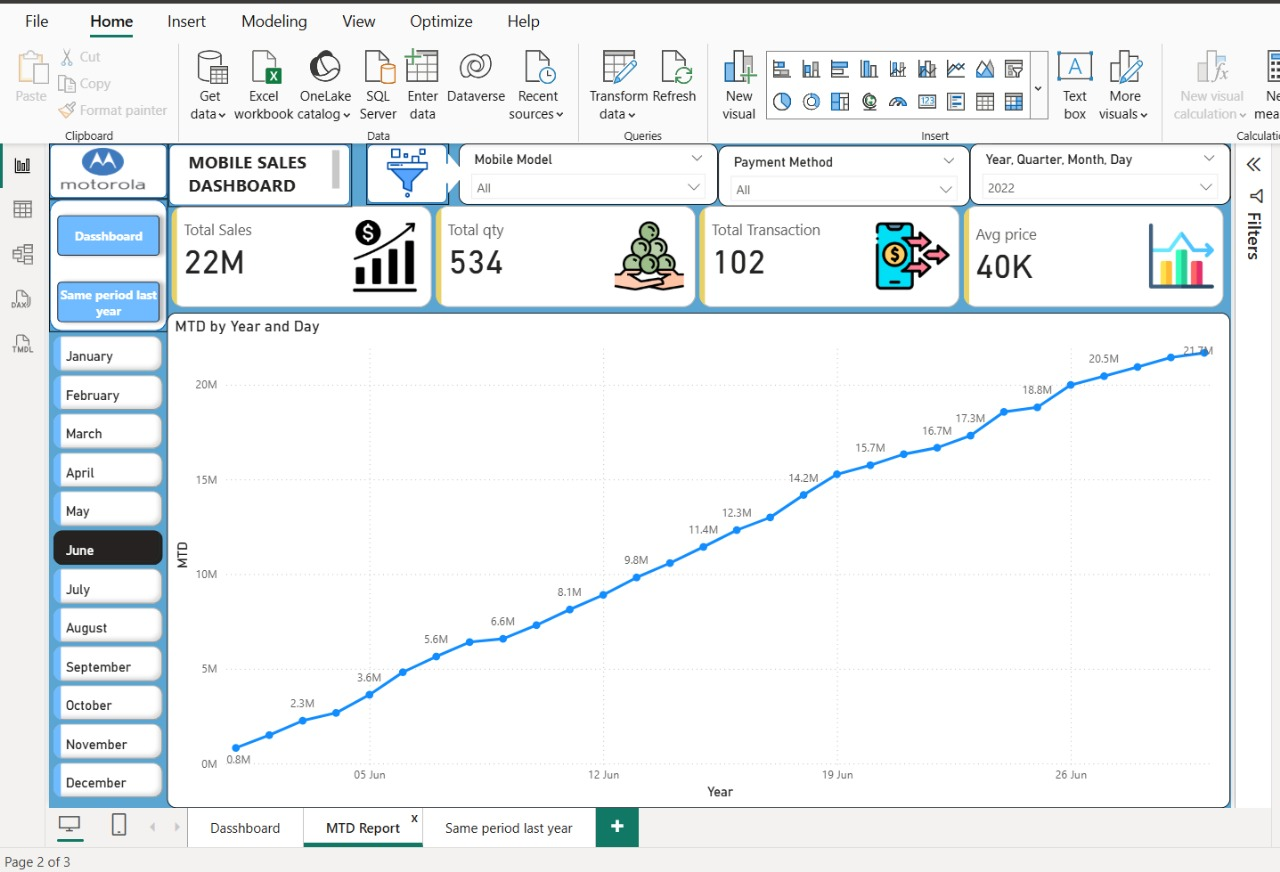

Layout of this report page (visuals, bound fields, positions):
{"tool":"powerbi","page":{"name":"MTD Report","canvas":[1280,720],"ordinal":1},"visuals":[{"type":"shape","box":[0,0,129,60.4],"z":0},{"type":"shape","box":[0,60.4,129,144.1],"z":1000},{"type":"cardVisual","fields":{"Data":["Mobile Sales Data.Total Sales","Mobile Sales Data.Total qty","Mobile Sales Data.Total Transaction","Mobile Sales Data.Avg price"]},"box":[128.3,63.3,1151.7,120],"z":2000},{"type":"slicer","fields":{"Values":["Mobile Sales Data.Mobile Model"]},"box":[444,0,281.1,66.4],"z":3000},{"type":"slicer","fields":{"Values":["Mobile Sales Data.Mobile Model"]},"box":[724.5,2.7,273.1,65.9],"z":4000},{"type":"slicer","fields":{"Values":["Mobile Sales Data.Mobile Model"]},"box":[1014.1,0,266.2,65.9],"z":5000},{"type":"slicer","fields":{"Values":["Custom calender.Date.Variation.Date Hierarchy.Year","Custom calender.Date.Variation.Date Hierarchy.Quarter","Custom calender.Date.Variation.Date Hierarchy.Month","Custom calender.Date.Variation.Date Hierarchy.Day"]},"box":[997.7,0,282.3,66.4],"z":6000},{"type":"shape","box":[343.8,0,89.3,66.4],"z":7000},{"type":"image","box":[298,0,181,63.9],"z":8000},{"type":"shape","box":[413.8,10.9,37.4,43.4],"z":9000},{"type":"shape","box":[129,0,199,68.6],"z":10000},{"type":"textbox","box":[146,2.4,173.7,55.5],"z":11000},{"type":"image","box":[8.4,0,100.1,54.3],"z":12000},{"type":"advancedSlicerVisual","fields":{"Values":["Custom calender.Date.Variation.Date Hierarchy.Month"]},"box":[0,204,129,516],"z":13000},{"type":"lineChart","fields":{"Y":["Mobile Sales Data.MTD"],"Category":["Custom calender.Date.Variation.Date Hierarchy.Year","Custom calender.Date.Variation.Date Hierarchy.Day"]},"box":[128.3,183.3,1151.7,536.7],"z":14000},{"type":"pageNavigator","box":[0,68.8,129.1,135.1],"z":15000}]}

Visuals, with their boxes on the page's 1280x720 design canvas (x1, y1, x2, y2). These are canvas units, not pixel positions in the 1280x872 screenshot, which may show the page scaled, cropped or inside an application window:
shape: {"left": 0, "top": 0, "right": 129, "bottom": 60}
shape: {"left": 0, "top": 60, "right": 129, "bottom": 204}
cardVisual - Mobile Sales Data.Total Sales x Mobile Sales Data.Total qty: {"left": 128, "top": 63, "right": 1280, "bottom": 183}
slicer - Mobile Sales Data.Mobile Model: {"left": 444, "top": 0, "right": 725, "bottom": 66}
slicer - Mobile Sales Data.Mobile Model: {"left": 724, "top": 3, "right": 998, "bottom": 69}
slicer - Mobile Sales Data.Mobile Model: {"left": 1014, "top": 0, "right": 1280, "bottom": 66}
slicer - Custom calender.Date.Variation.Date Hierarchy.Year x Custom calender.Date.Variation.Date Hierarchy.Quarter: {"left": 998, "top": 0, "right": 1280, "bottom": 66}
shape: {"left": 344, "top": 0, "right": 433, "bottom": 66}
image: {"left": 298, "top": 0, "right": 479, "bottom": 64}
shape: {"left": 414, "top": 11, "right": 451, "bottom": 54}
shape: {"left": 129, "top": 0, "right": 328, "bottom": 69}
textbox: {"left": 146, "top": 2, "right": 320, "bottom": 58}
image: {"left": 8, "top": 0, "right": 108, "bottom": 54}
advancedSlicerVisual - Custom calender.Date.Variation.Date Hierarchy.Month: {"left": 0, "top": 204, "right": 129, "bottom": 720}
lineChart - Mobile Sales Data.MTD x Custom calender.Date.Variation.Date Hierarchy.Year: {"left": 128, "top": 183, "right": 1280, "bottom": 720}
pageNavigator: {"left": 0, "top": 69, "right": 129, "bottom": 204}
